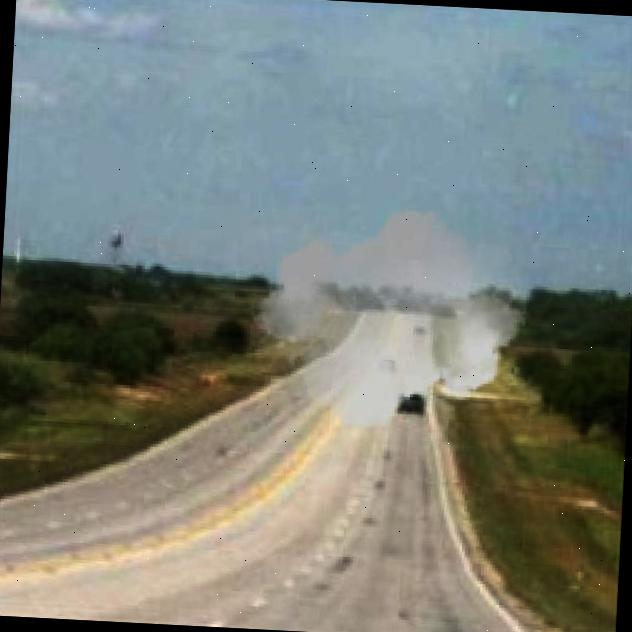smoke: (245, 192, 532, 446)
